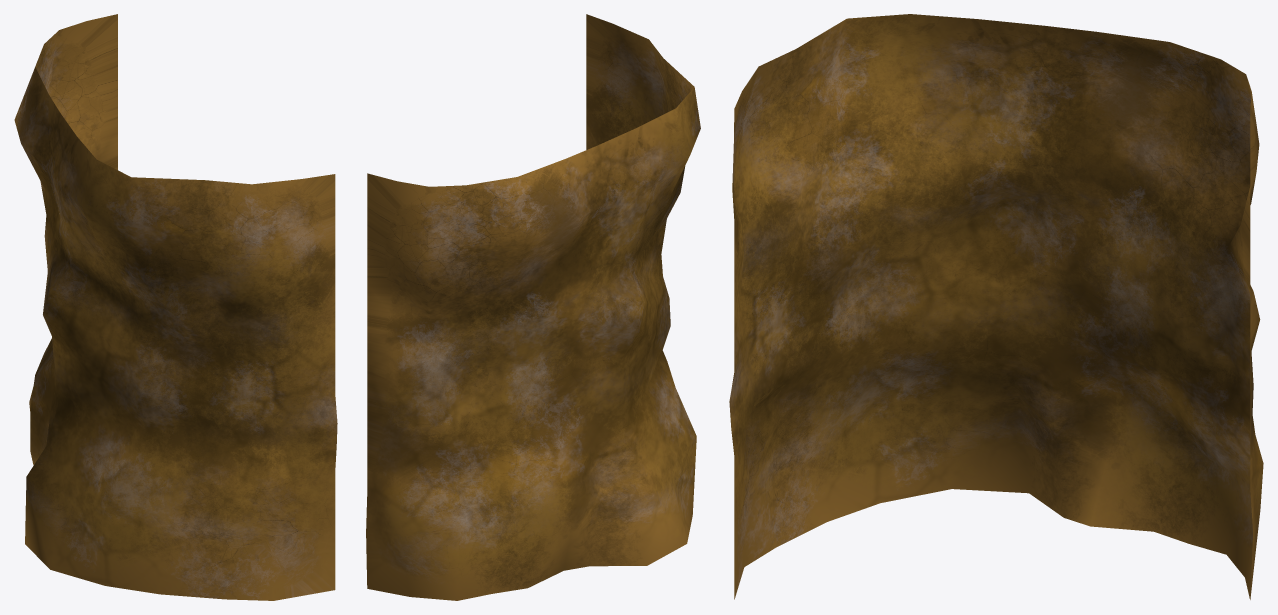
The model's file is Wall_Corner - Copy.fbx.
3 views of the same model, side by side, from view 1: azimuth 30°, elevation 25°; view 2: azimuth 150°, elevation 25°; view 3: azimuth 270°, elevation 25° (orthographic). The views are drawn at different scales.
Visible parts, largest first — view 1: Group5392; view 2: Group5392; view 3: Group5392.
Part boxes in pixels (x1,y1,x2,y2): Group5392: [14, 14, 337, 600]; Group5392: [366, 14, 700, 600]; Group5392: [729, 14, 1263, 599].
Size of the model in its own units: 161 by 330 by 325.
